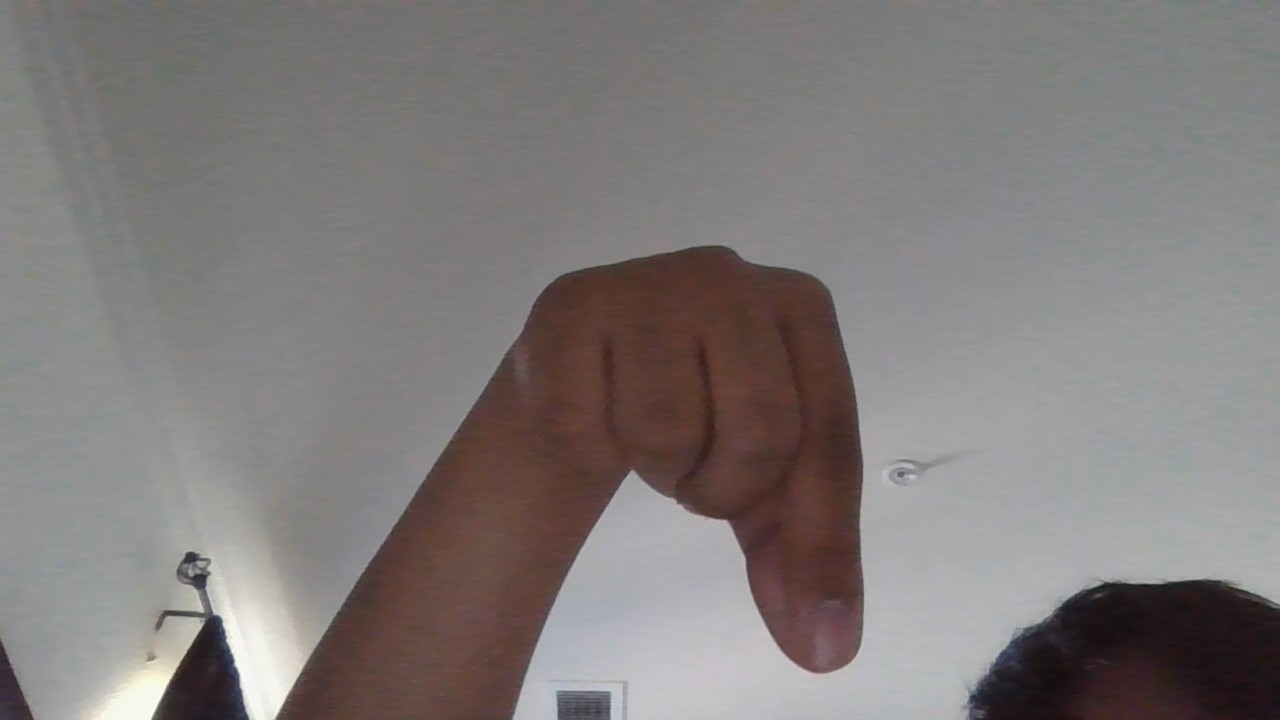q: (502, 248, 934, 688)
